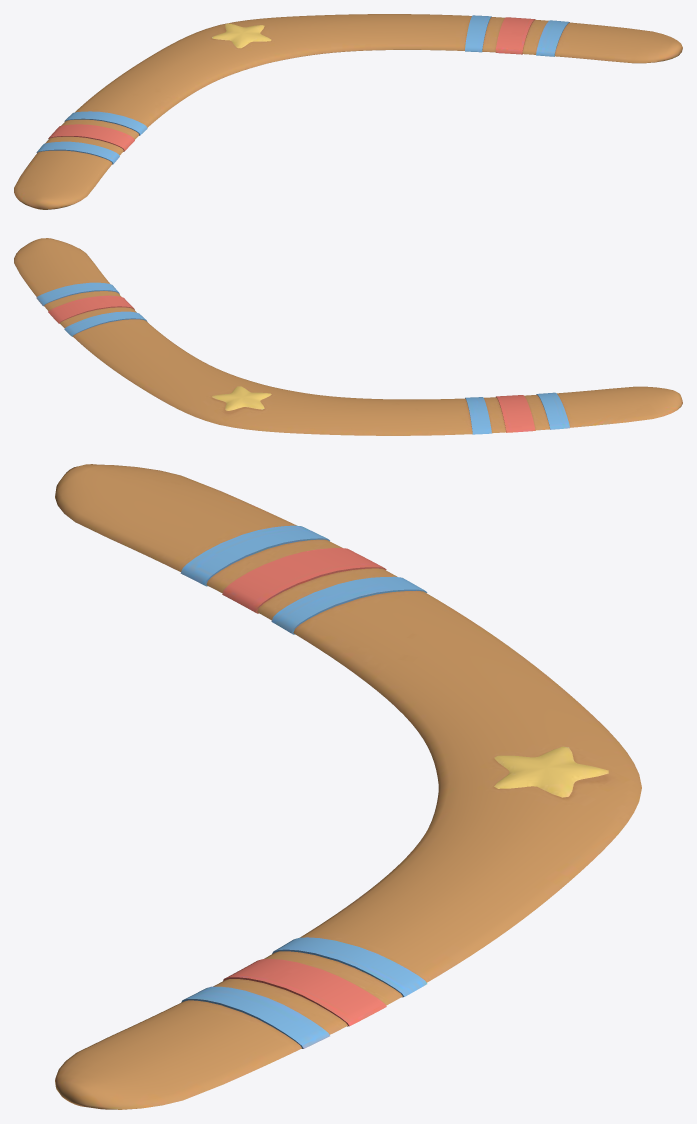
File: acorazado.glb
3 views of the same model, one above another, from view 1: azimuth 30°, elevation 25°; view 2: azimuth 150°, elevation 25°; view 3: azimuth 270°, elevation 25° (orthographic). The views are drawn at different scales.
Visible parts, largest first — view 1: boomerang_body; view 2: boomerang_body; view 3: boomerang_body.
Boxes of the visible parts, box(x1,y1,x2,y2) form: boomerang_body: box(14, 14, 682, 209); boomerang_body: box(14, 238, 682, 435); boomerang_body: box(55, 464, 641, 1109).
Bounding box in the file's own units: 0.5023 × 0.00966 × 0.1943.
Materials: 1 (1 with a texture image).
